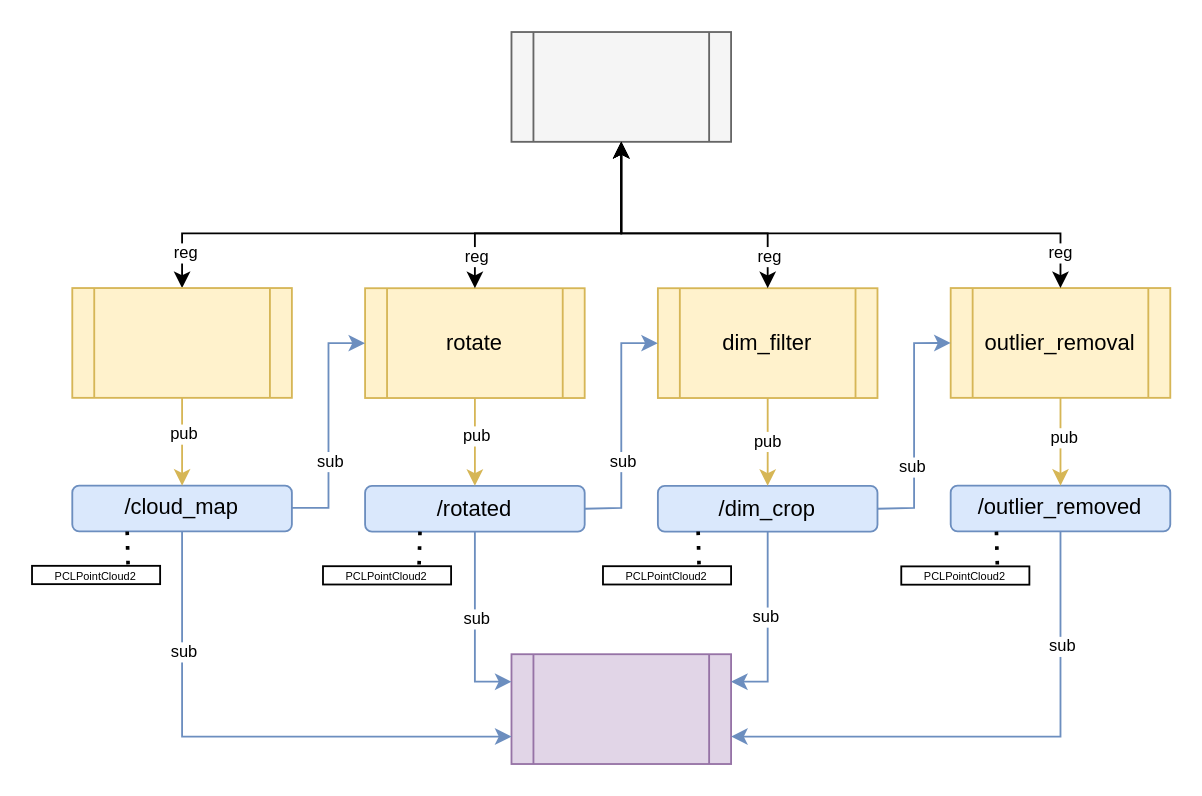
The diagram is 1202 pixels wide and 796 high, and some of its shapes have lost their labels. The shapes that lost their labels are listed below. From the top down, each one's centre as x and y in pixels, then its label:
At [620,86]: "ROS Master".
At [181,342]: "rosbag play".
At [620,708]: "RVIZ".
